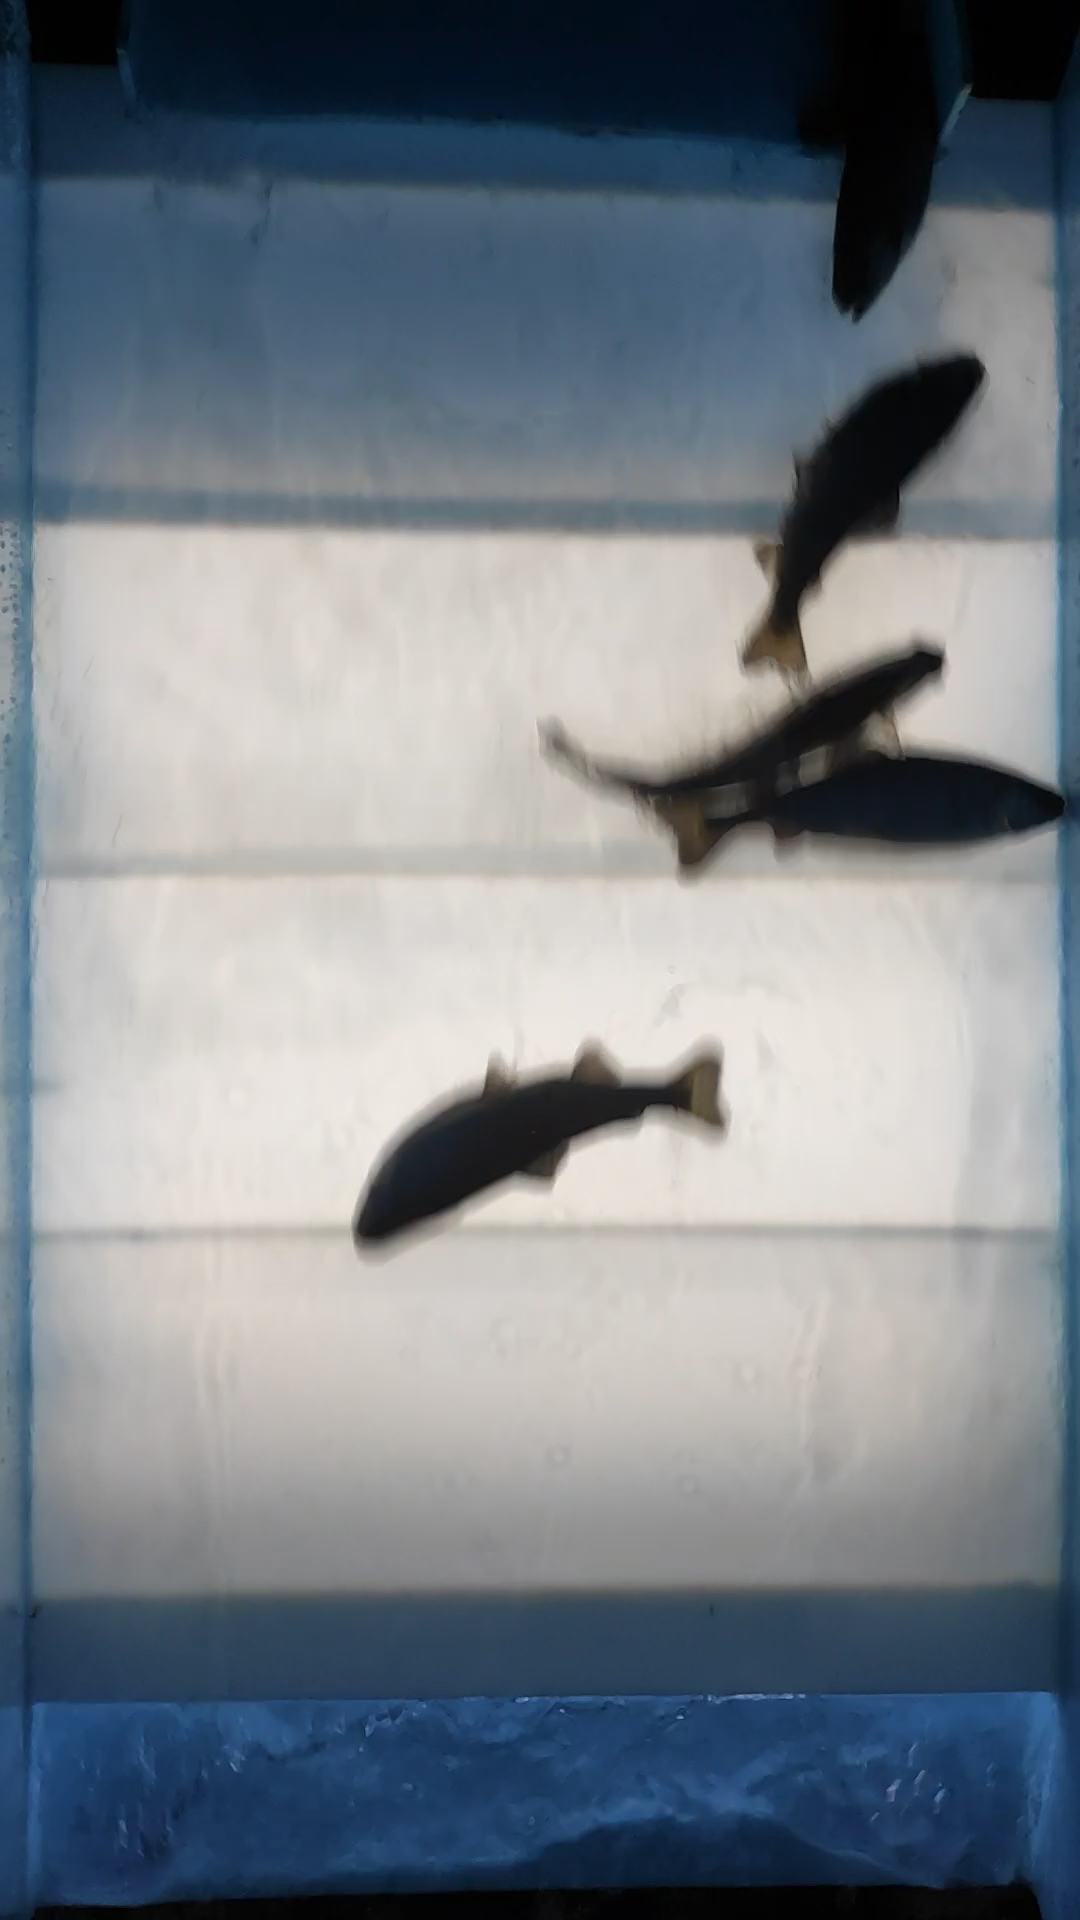fish: (345, 1030, 739, 1265), (734, 345, 992, 695), (528, 642, 951, 824), (654, 750, 1072, 880), (819, 1, 958, 330)
